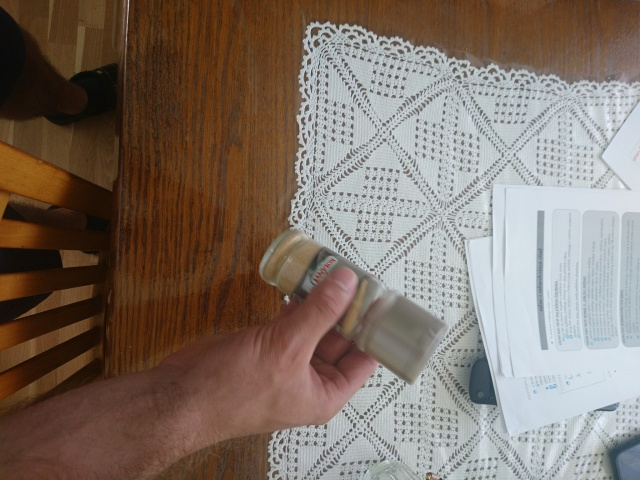Kotanyi Garlic Granules 70g: (255, 226, 451, 387)
